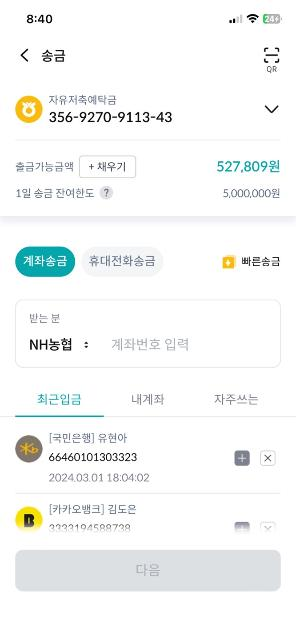Card: (15, 300, 280, 368)
EditText: (111, 337, 273, 351)
Icon: (264, 48, 280, 62), (222, 255, 236, 269), (265, 105, 279, 114), (21, 48, 29, 62), (237, 454, 246, 462), (264, 454, 272, 462), (105, 190, 109, 197), (84, 342, 88, 348)
Image: (15, 435, 43, 463), (15, 96, 43, 122), (16, 506, 42, 532)
ImageButton: (234, 450, 250, 466), (260, 450, 276, 466), (100, 187, 114, 200)
List: (0, 418, 296, 548)
Multi_Tab: (0, 384, 296, 416)
Text: (50, 111, 172, 122), (112, 337, 188, 351), (50, 472, 150, 482), (50, 504, 136, 514), (89, 255, 156, 267), (16, 188, 94, 198), (50, 433, 127, 443), (217, 160, 279, 172), (49, 453, 137, 461), (48, 95, 116, 105), (50, 524, 130, 532), (30, 338, 72, 352), (16, 162, 74, 172), (223, 190, 279, 198), (37, 394, 81, 404), (214, 394, 258, 404), (25, 256, 67, 266), (132, 393, 164, 405), (136, 562, 160, 578), (242, 256, 280, 266), (89, 162, 126, 172), (29, 313, 59, 323), (42, 50, 66, 62), (267, 66, 277, 72)
TextButton: (15, 550, 281, 590), (81, 247, 163, 276), (15, 247, 75, 277), (80, 156, 136, 178)
TextImageButton: (264, 47, 280, 73)
Toolbar: (1, 36, 296, 80)
UpperTaskBar: (0, 1, 296, 36)
